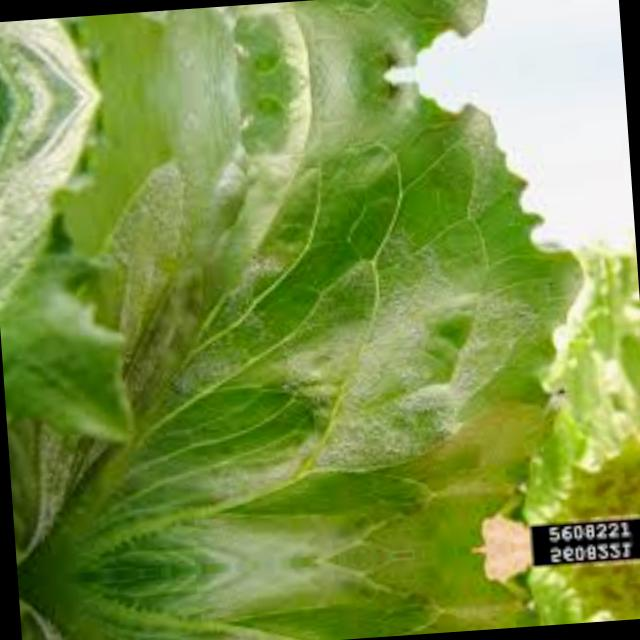Downy_mildew: (50, 66, 618, 564), (43, 0, 584, 93), (83, 552, 623, 640)
